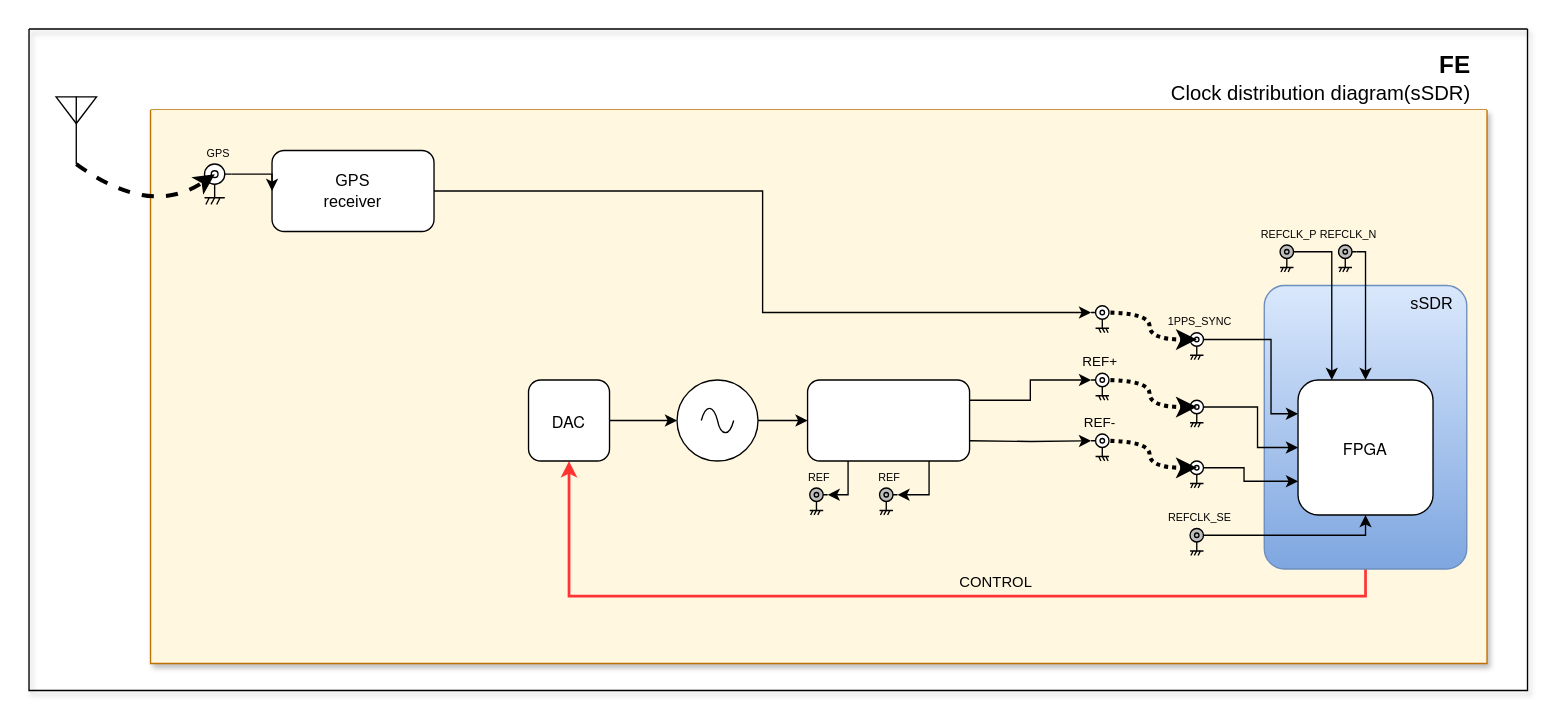
Some shapes in this 1559 by 724 pixel diagram are drawn without their labels. Each missing label, with the centre of its shape:
"1PPS_OUT" goes at point (1099, 318).
"25MHz" goes at point (717, 420).
"GPS ANT" goes at point (76, 129).
"LMK1C1104" goes at point (888, 420).
"SYSREF_N" goes at point (1198, 474).
"SYSREF_P" goes at point (1198, 413).
